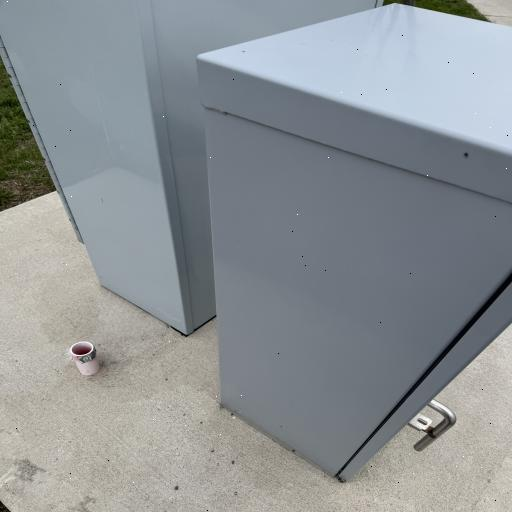Electrical Box: (195, 4, 511, 480)
